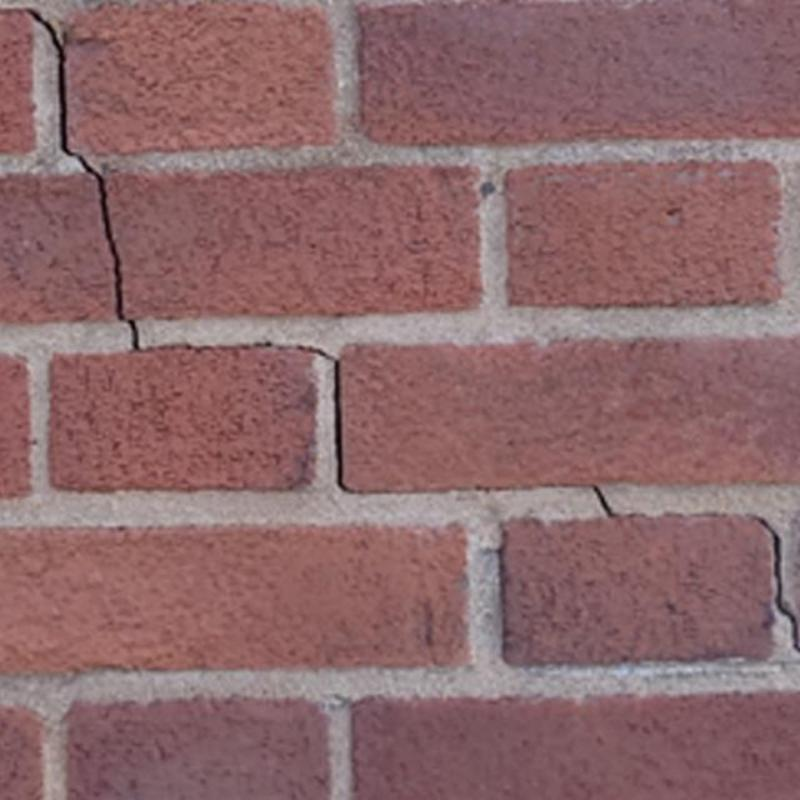pothole: (21, 7, 125, 322), (248, 342, 359, 494), (757, 515, 799, 654), (141, 344, 248, 351), (592, 486, 616, 517), (128, 320, 141, 350)
